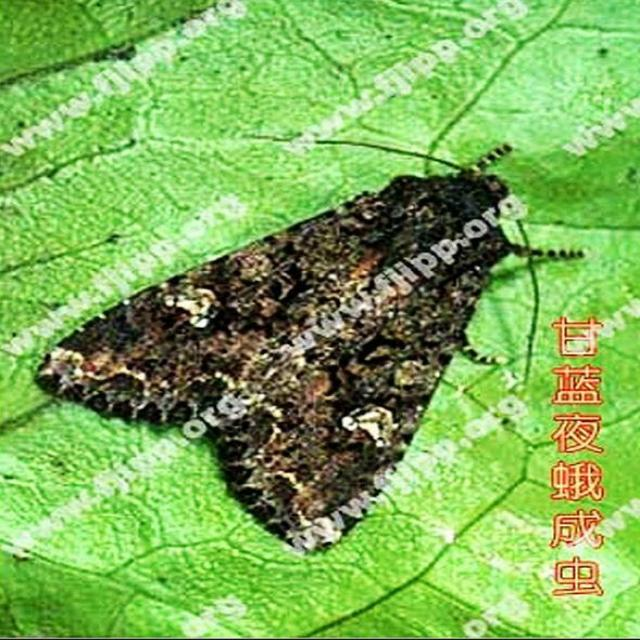armyworm: (21, 125, 599, 583)
